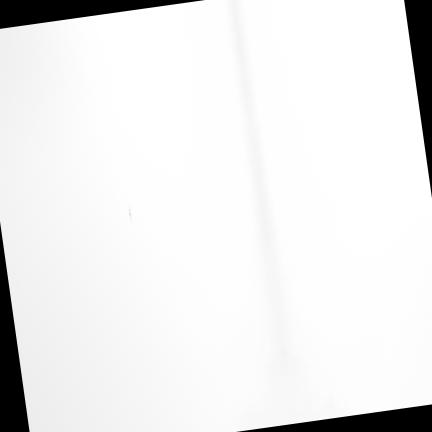Shahed: (127, 205, 131, 222)
